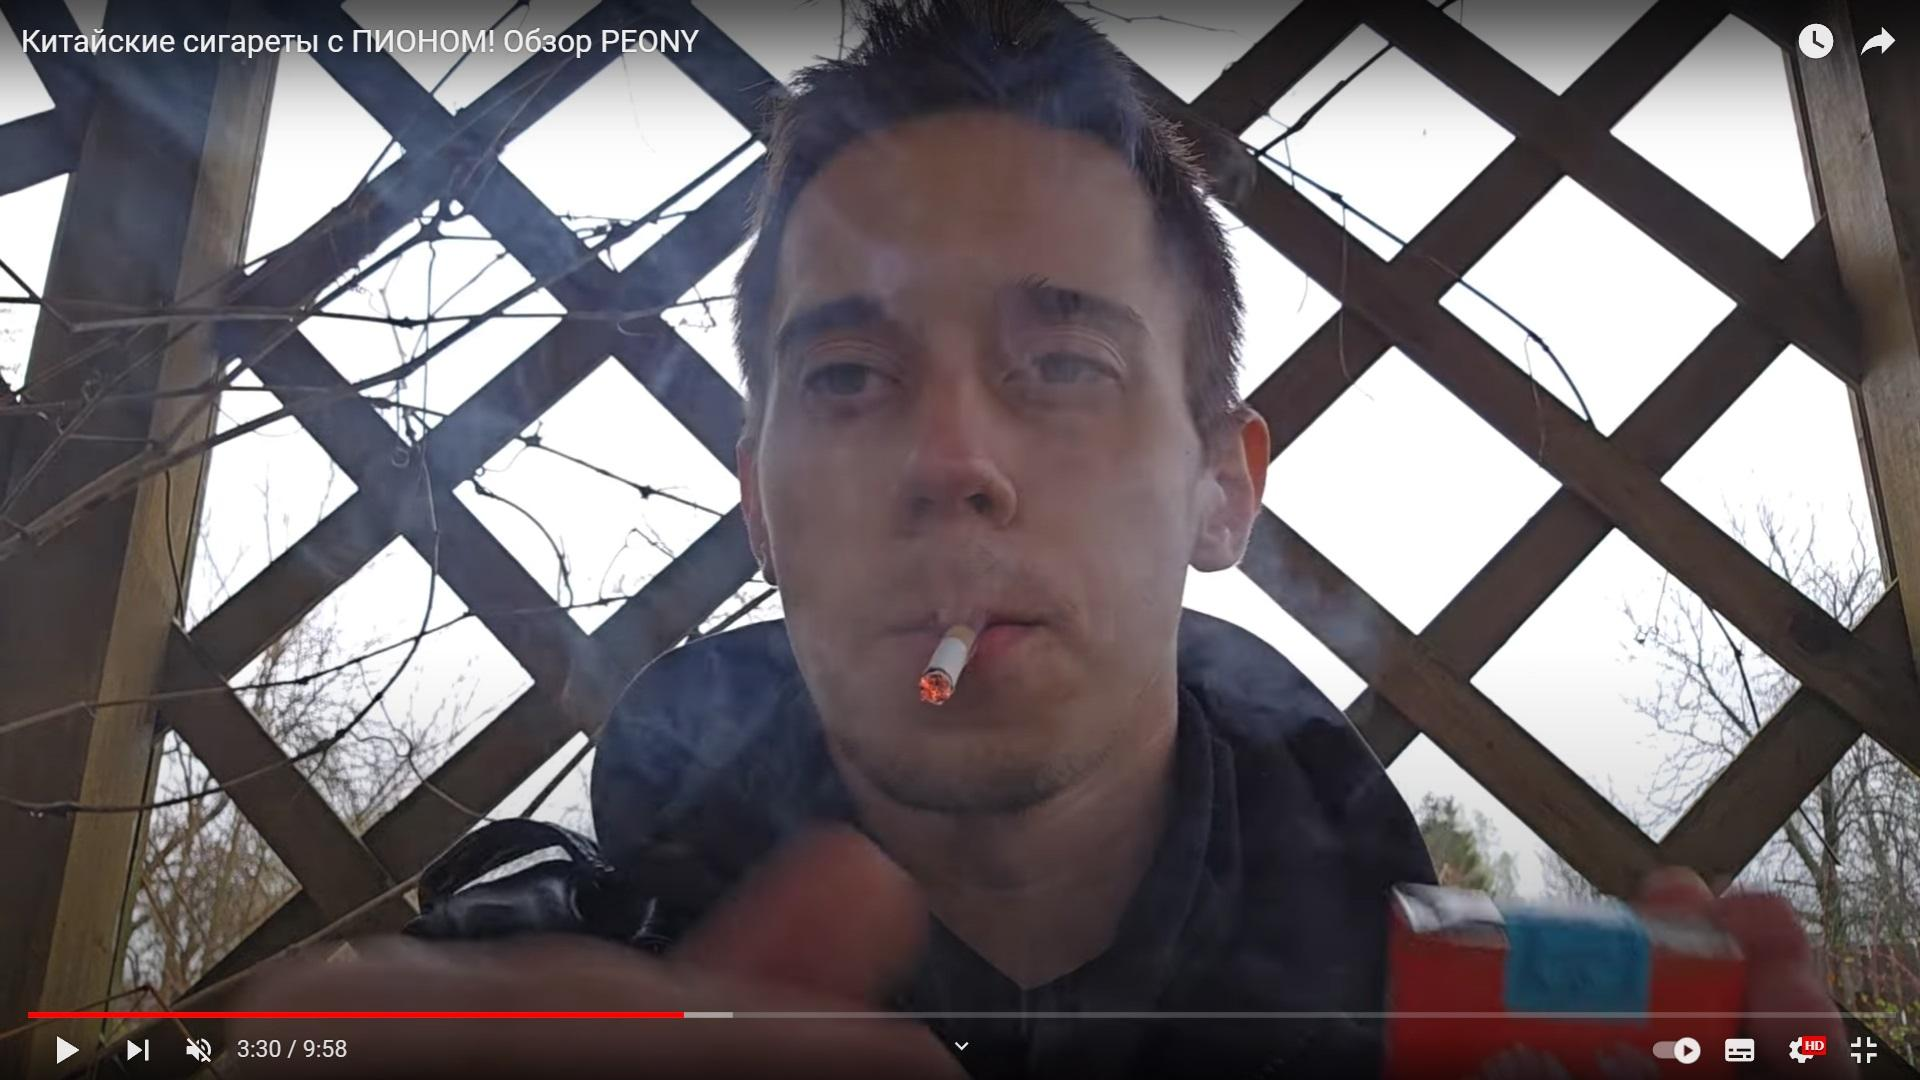cigarette: (918, 625, 978, 707)
